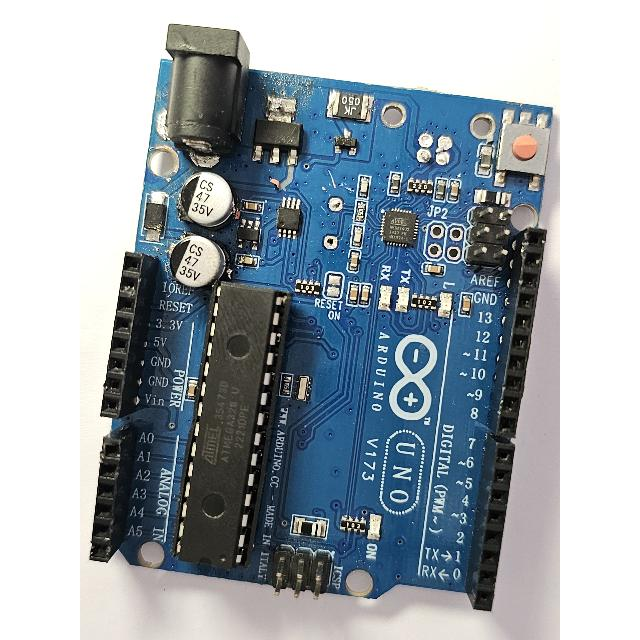missing_crystal_os: (305, 177, 356, 263)
missing_usb: (366, 93, 480, 174)
